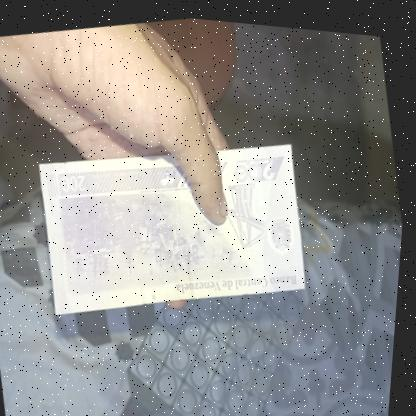two_hundred-back-vef: (31, 114, 320, 333)
